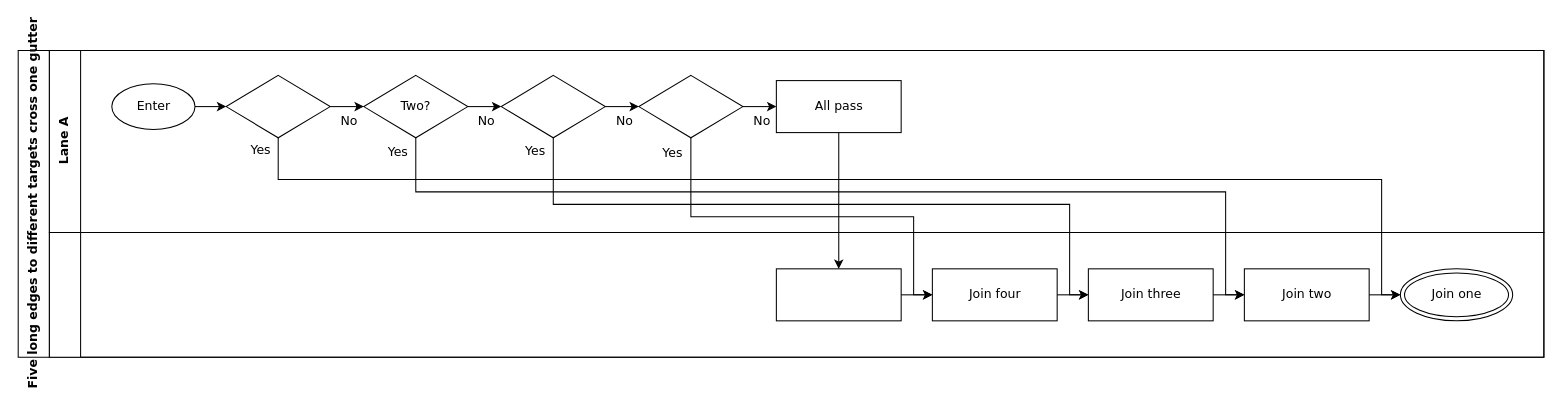
This 1562x407 diagram has some shape labels left out. Each missing label, with the box of its shape:
Four?: (638, 74, 743, 138)
Lane B: (48, 231, 1544, 357)
One?: (225, 74, 330, 138)
Take: (775, 268, 901, 321)
Three?: (500, 74, 605, 138)
